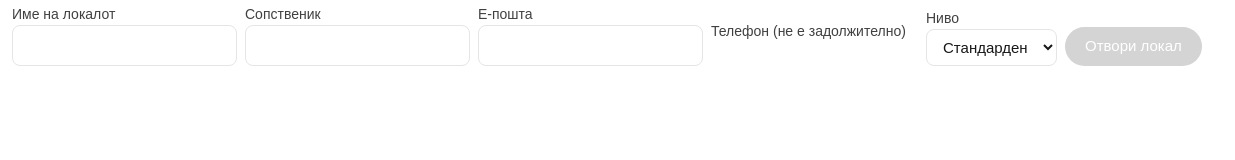
Test: CreateVenueForm (admin → Нов локал) › preselects the default plan and sends the form
Expected: the dropdown labelled "Ниво" shows "Стандарден", [926,28,1057,66]
In the field labelled "Име на локалот": (124, 45) [12,25,237,66], type "Ресторан Езеро"
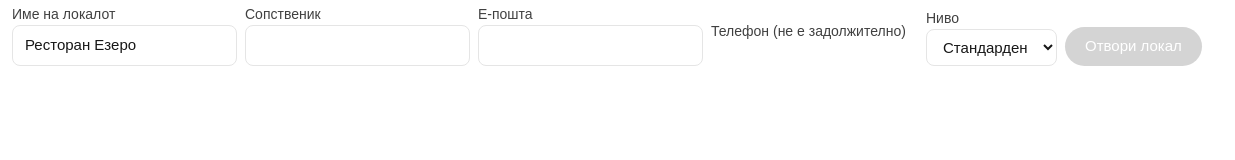
In the field labelled "Сопственик": (358, 45) [245,25,470,66], type "Марија"
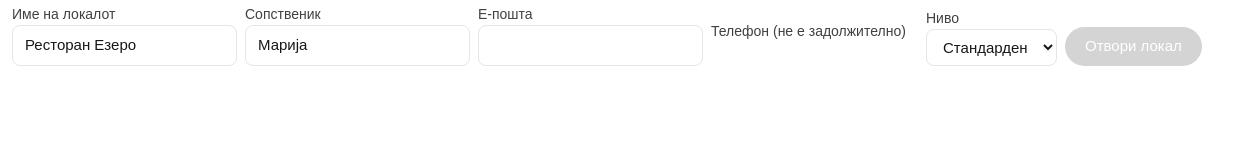
In the field labelled "Е-пошта": (590, 45) [478,25,703,66], type "m@example.com"
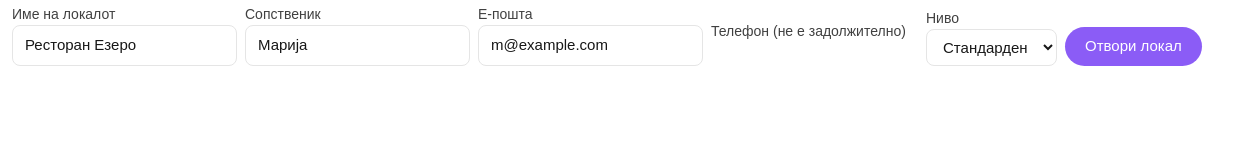
Click the button "Отвори локал": (1133, 46) [1065,27,1202,66]
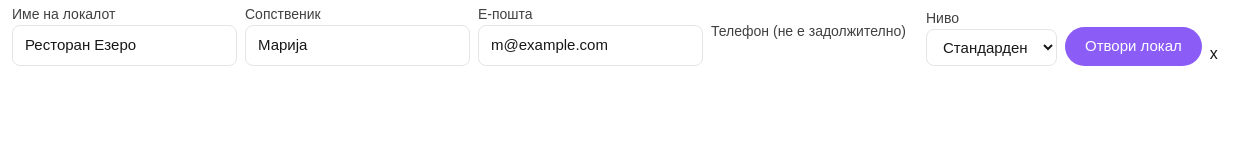
Now the message "x" is shown, box [1210,42,1218,66]
